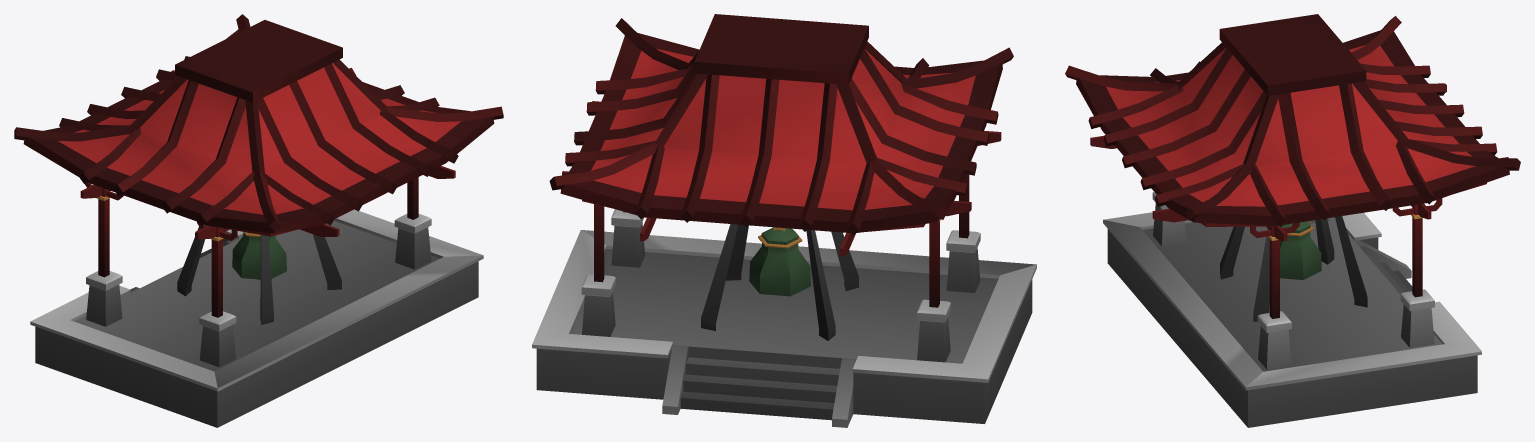
File: bell_pagoda.glb
3 views of the same model, side by side, from view 1: azimuth 30°, elevation 25°; view 2: azimuth 150°, elevation 25°; view 3: azimuth 270°, elevation 25° (orthographic). The views are drawn at different scales.
Visible parts, largest first — view 1: Object_2; view 2: Object_2; view 3: Object_2.
Boxes of the visible parts, bbox=[...] form: Object_2: bbox=[14, 14, 503, 427]; Object_2: bbox=[532, 14, 1036, 427]; Object_2: bbox=[1065, 14, 1520, 427].
Bounding box in the file's own units: 6.97 × 4.46 × 6.6.
1 material, 1 textured.
